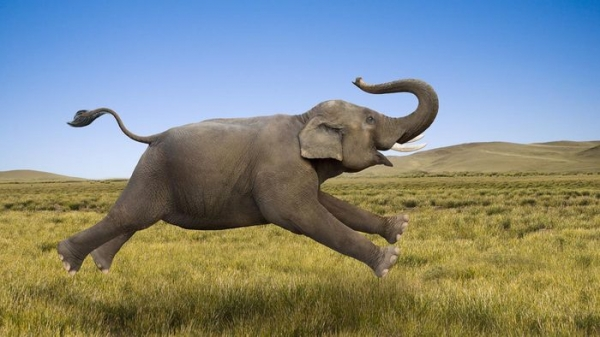Elephant: (25, 46, 471, 296)
